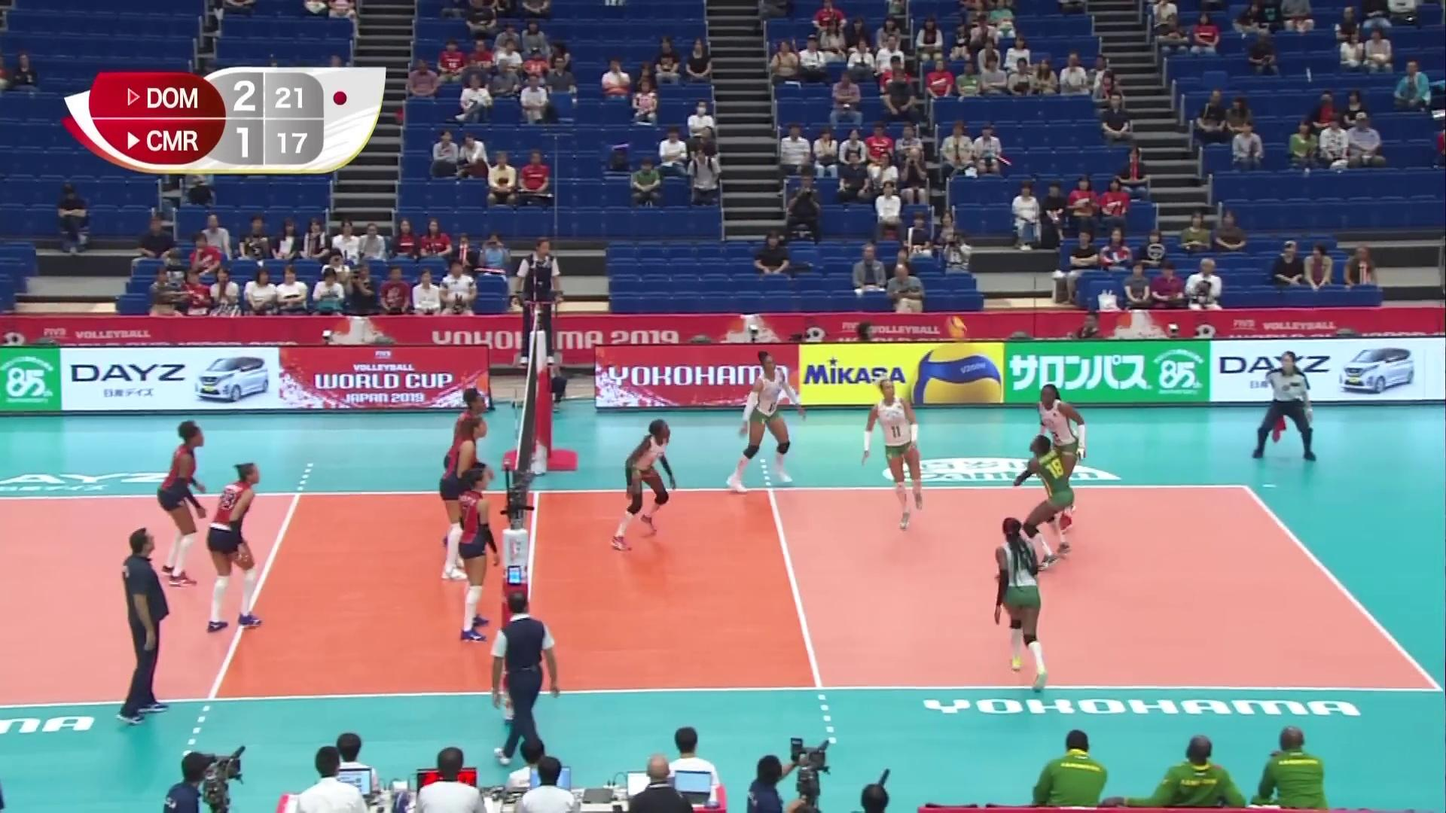player: (728, 354, 797, 490), (206, 464, 261, 632), (992, 518, 1047, 683), (865, 383, 924, 536), (439, 388, 489, 561), (440, 416, 491, 579), (1013, 437, 1076, 567), (614, 421, 676, 551), (1031, 386, 1087, 520), (159, 424, 205, 586), (459, 467, 499, 645)
refree: (488, 603, 560, 761), (1253, 353, 1317, 464), (517, 241, 563, 368)
